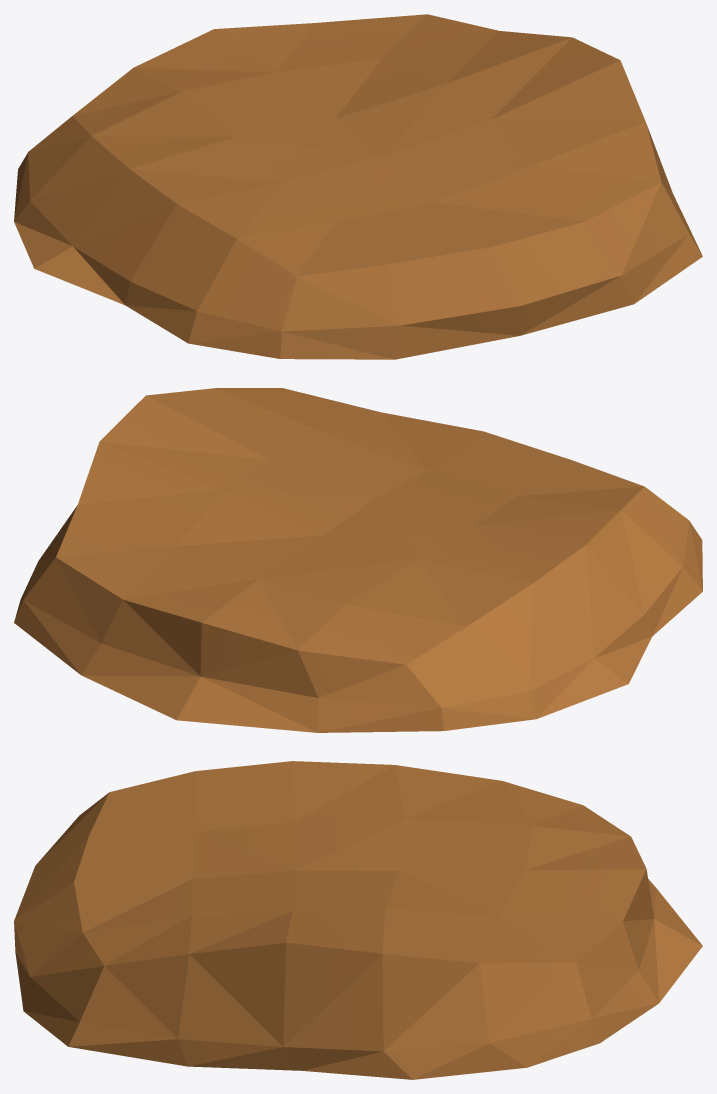
File: Soil_Patch_01.fbx
3 views of the same model, one above another, from view 1: azimuth 30°, elevation 25°; view 2: azimuth 150°, elevation 25°; view 3: azimuth 270°, elevation 25° (orthographic). The views are drawn at different scales.
Visible parts, largest first — view 1: Soil_Patch_01; view 2: Soil_Patch_01; view 3: Soil_Patch_01.
Boxes of the visible parts, x1,y1,x2,y2 form: Soil_Patch_01: [14, 14, 702, 359]; Soil_Patch_01: [14, 388, 702, 732]; Soil_Patch_01: [14, 761, 702, 1079].
Size of the model in its own units: 2.77 by 0.616 by 2.86.
